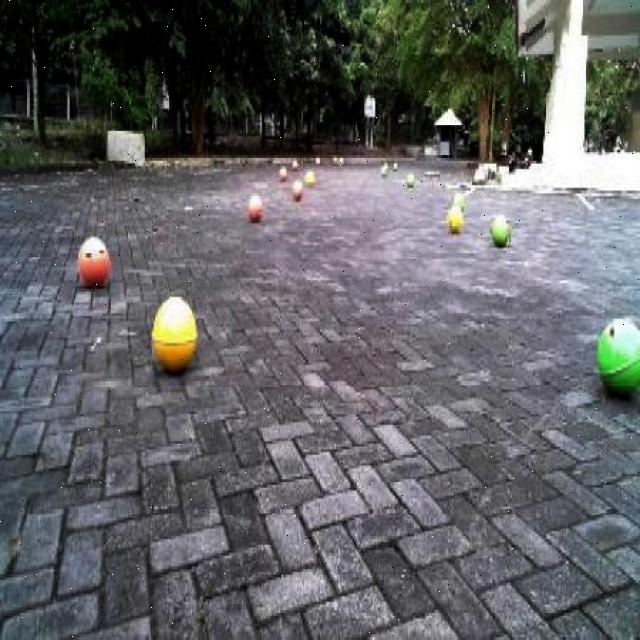buoy: (148, 286, 203, 381), (592, 306, 638, 404), (74, 226, 111, 295), (488, 207, 512, 248), (245, 186, 263, 219), (446, 199, 464, 229)
